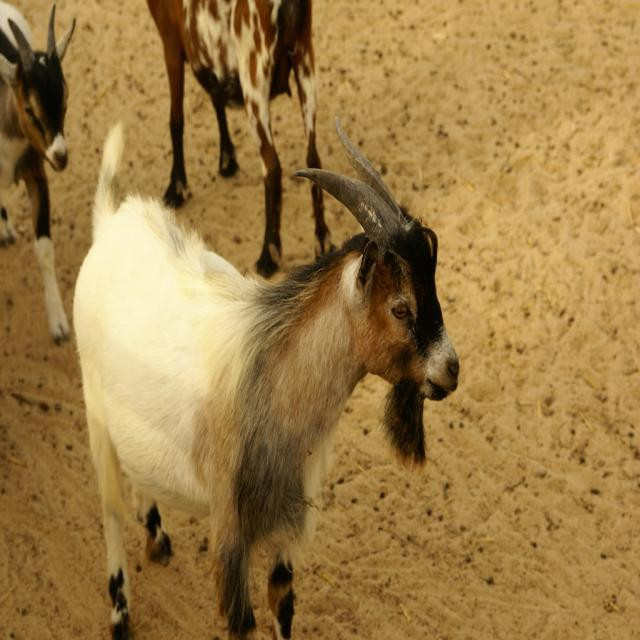Goat: (71, 111, 460, 638), (145, 0, 332, 277), (0, 1, 76, 345)
